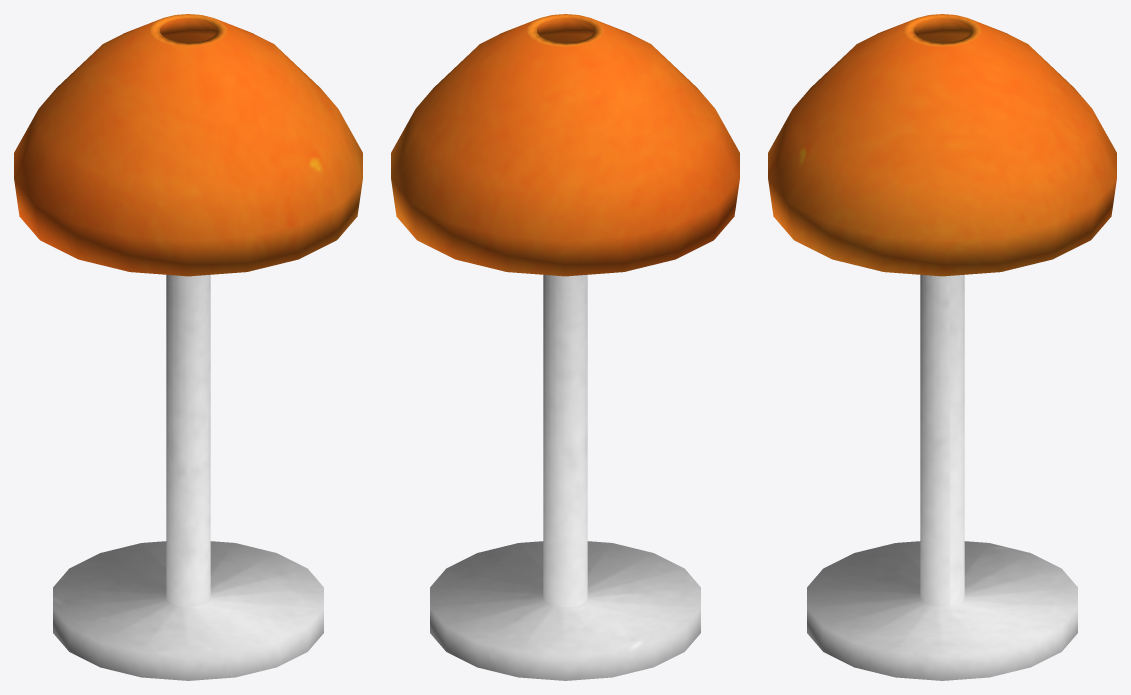
Rendered from lamp.fbx.
3 renders of one model, left to right at view 1: azimuth 30°, elevation 25°; view 2: azimuth 150°, elevation 25°; view 3: azimuth 270°, elevation 25°, orthographic.
Visible parts, largest first — view 1: lamp; view 2: lamp; view 3: lamp.
Part boxes in pixels (x1,y1,x2,y2): lamp: (14, 14, 362, 680); lamp: (391, 14, 739, 680); lamp: (768, 14, 1116, 680).
Size of the model in its own units: 45.02 by 83.06 by 44.34.
